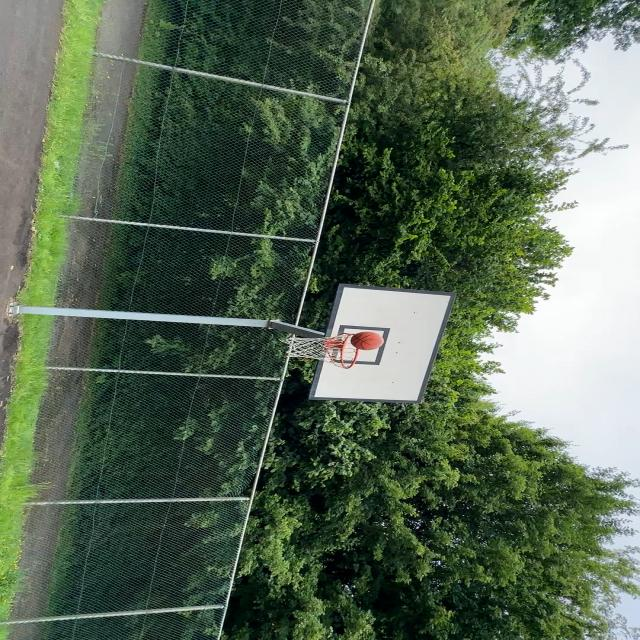rebound_hit: (351, 332, 384, 351)
